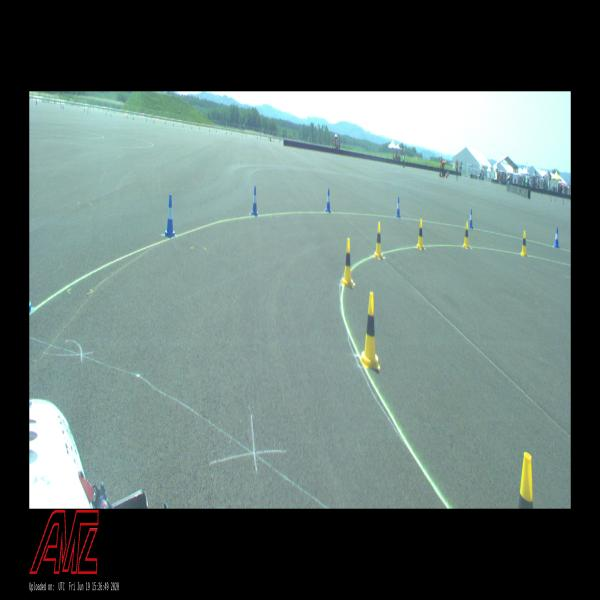blue_cone: (164, 194, 176, 238), (251, 187, 258, 215), (554, 227, 560, 248), (326, 188, 331, 212), (396, 196, 401, 218), (468, 209, 473, 229)
yellow_cone: (360, 292, 380, 371), (518, 452, 533, 509), (341, 237, 356, 289), (374, 221, 382, 260), (416, 218, 425, 250), (463, 222, 470, 250), (521, 231, 527, 257)
